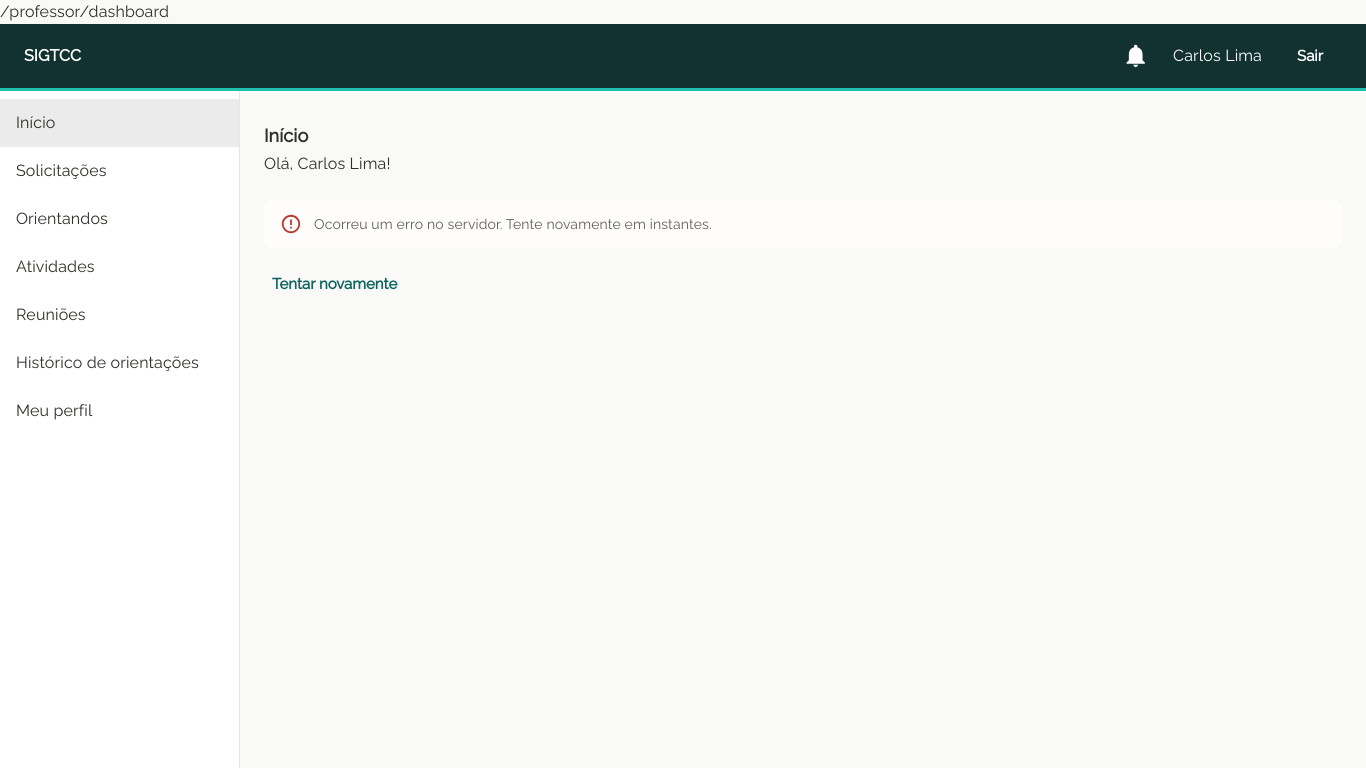
Test: Dashboard do professor: carregamento e erros › mostra um erro simples com "Tentar novamente", que funciona
This screenshot has width=1366, height=768.
Expected: the text "Ocorreu um erro no servidor. Tente novamente em instantes." is shown, [314,216,712,232]
What coordinates should you click on to do the following:
click the button "Tentar novamente"
I would click on:
 (335, 284)
Its box is [264,264,405,304].
(page scrolled)
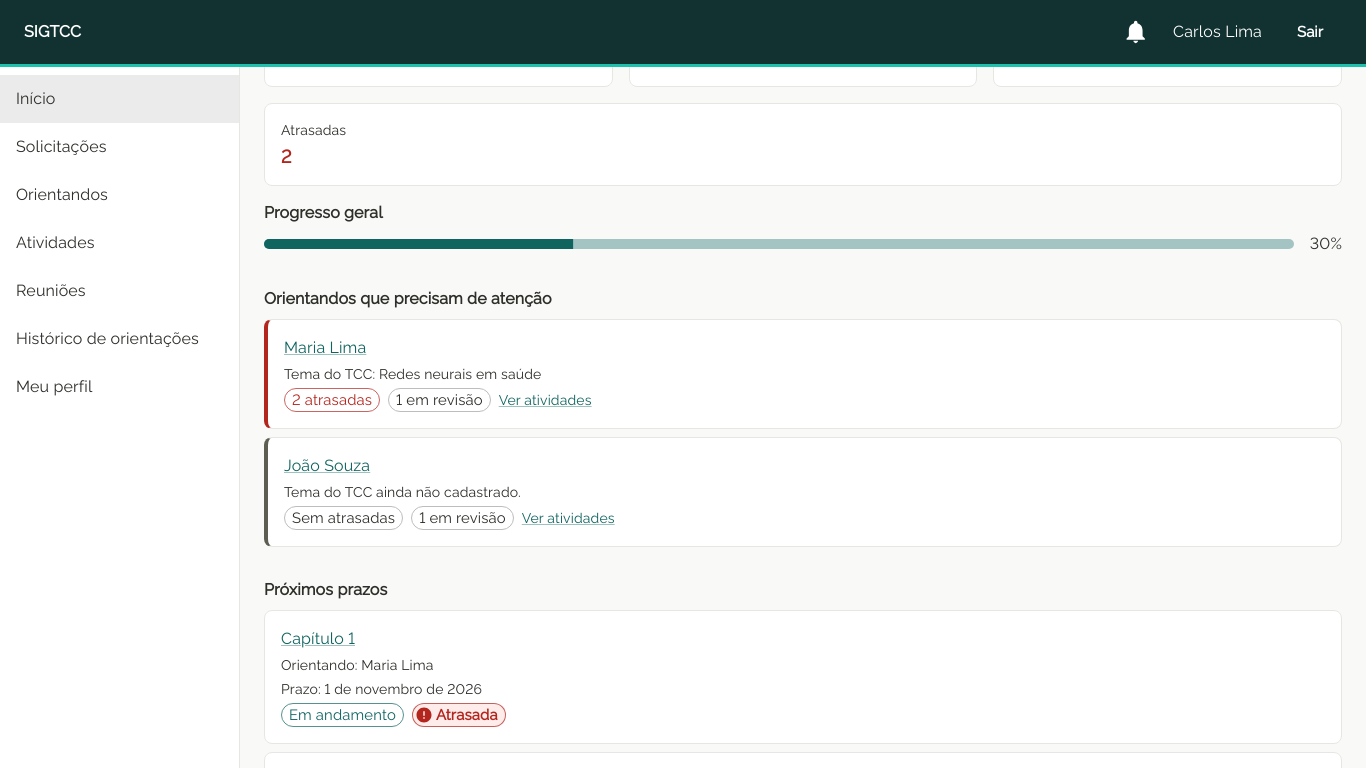
Now the element "Orientandos que precisam de atenção" is shown, box [264,288,1342,547]
